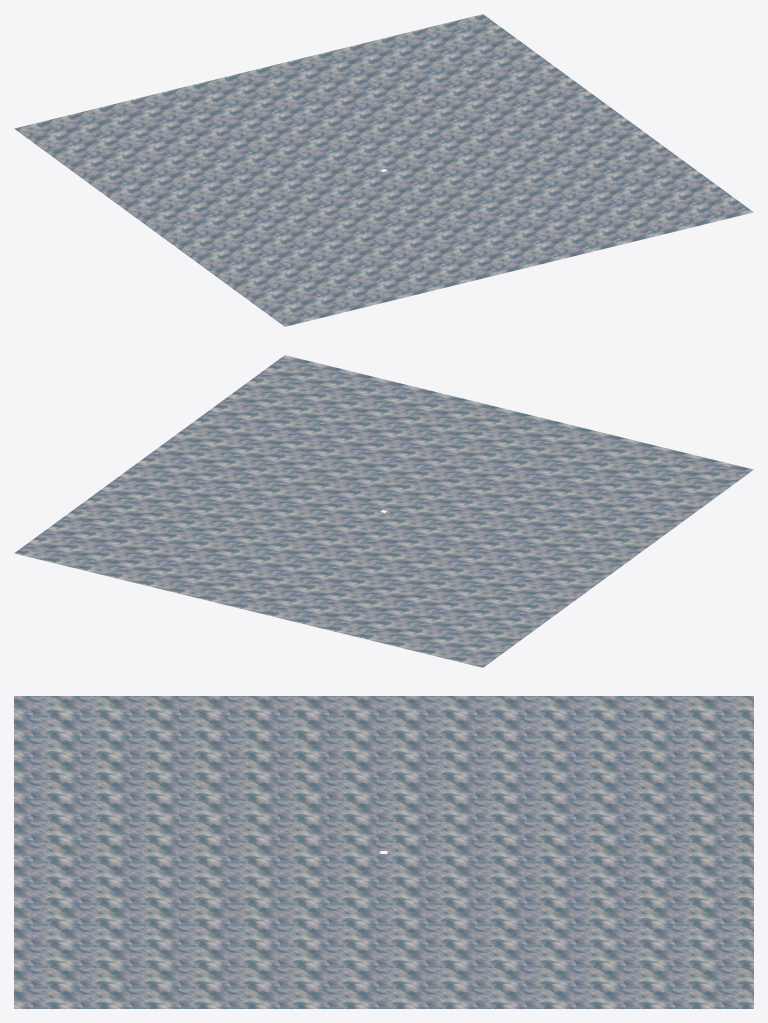
Rendered from effect_plane_fog.FBX.
3 views of the same model, one above another, from view 1: azimuth 30°, elevation 25°; view 2: azimuth 150°, elevation 25°; view 3: azimuth 270°, elevation 25° (orthographic). The views are drawn at different scales.
Visible parts, largest first — view 1: effect_plane_fog; view 2: effect_plane_fog; view 3: effect_plane_fog.
Boxes of the visible parts, left/top/right/bottom form: effect_plane_fog: left=14, top=14, right=753, bottom=326; effect_plane_fog: left=14, top=355, right=753, bottom=667; effect_plane_fog: left=14, top=696, right=753, bottom=1008.
Size of the model in its own units: 10000 by 6.12e-13 by 10000.
